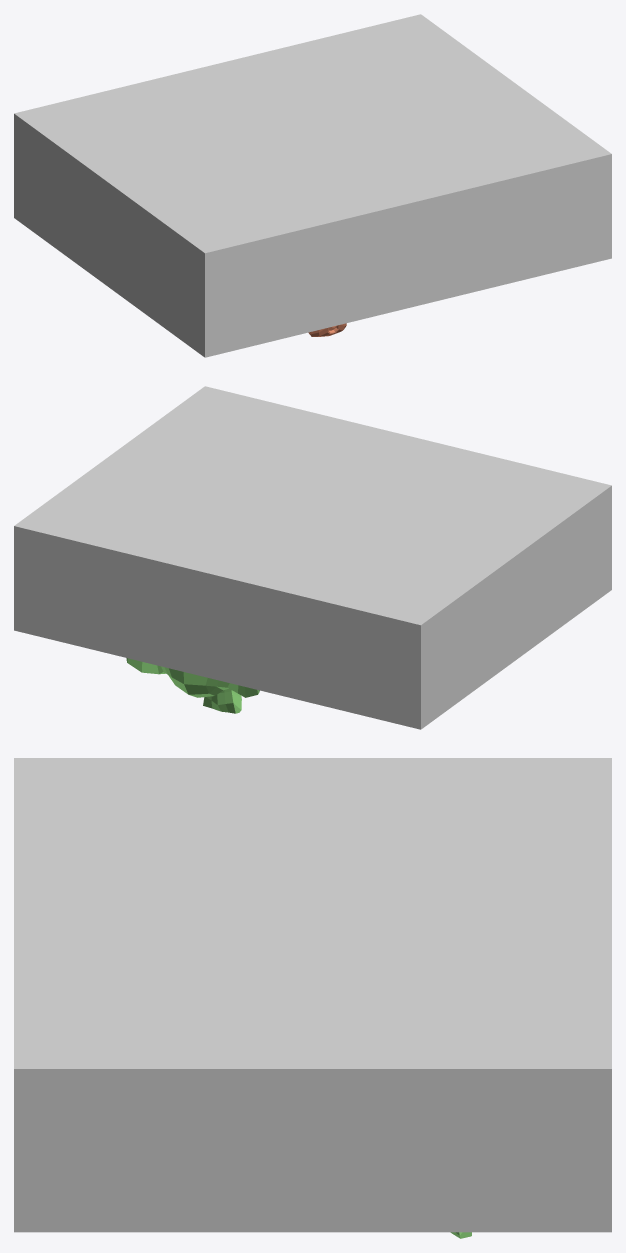
3 renders of one model, top to bottom at view 1: azimuth 30°, elevation 25°; view 2: azimuth 150°, elevation 25°; view 3: azimuth 270°, elevation 25°, orthographic. The views are drawn at different scales.
Parts seen in each view (by area): view 1: Cube; view 2: Cube, Suzanne.001; view 3: Cube.
Boxes of the visible parts, x1,y1,x2,y2 form: Cube: (14, 14, 611, 357); Cube: (14, 386, 611, 729); Suzanne.001: (126, 658, 259, 713); Cube: (14, 758, 611, 1232).
Size of the model in its own units: 8.15 by 3.64 by 6.63.
